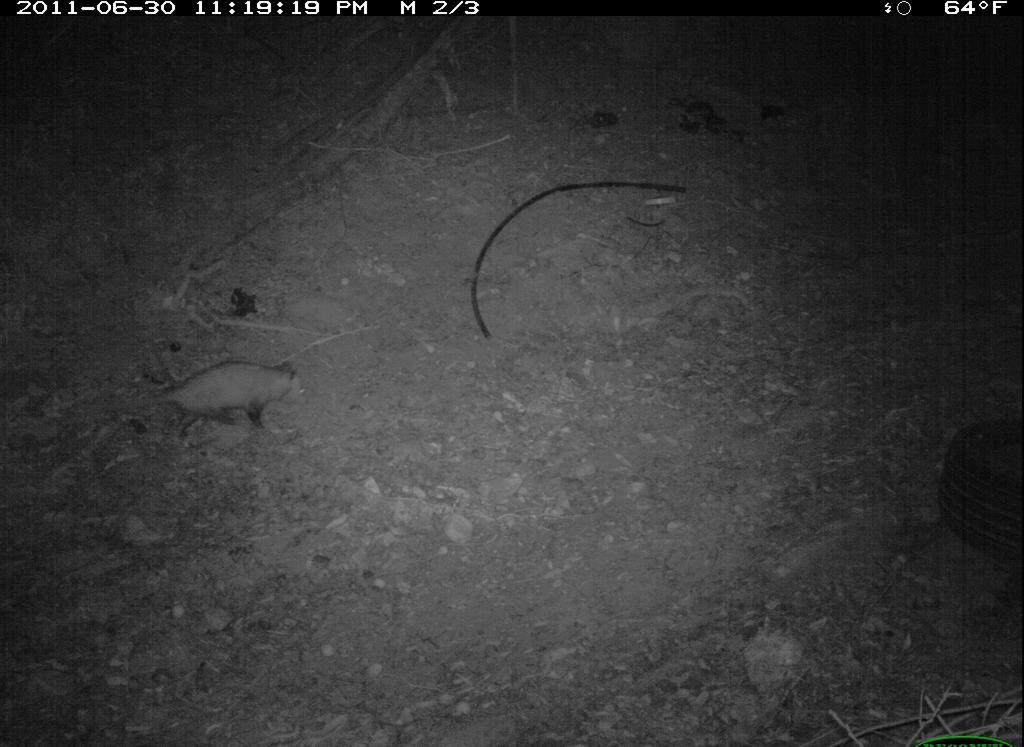opossum: (111, 356, 319, 446)
